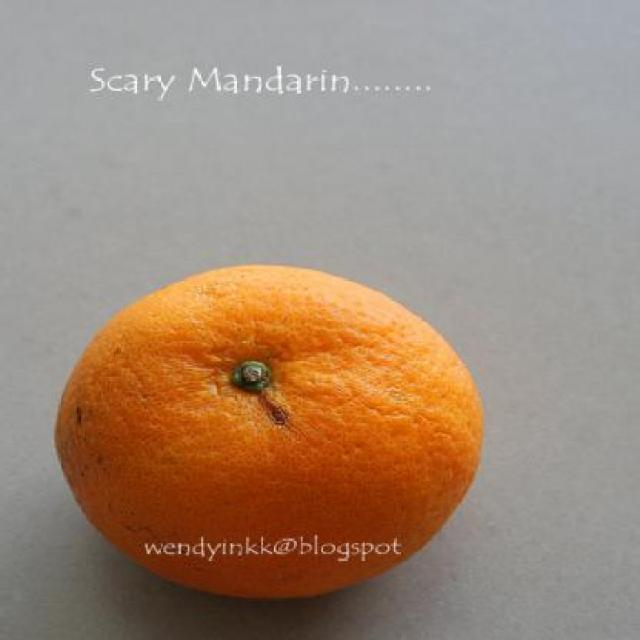Jeruk Sudah Matang: (55, 264, 482, 602)
